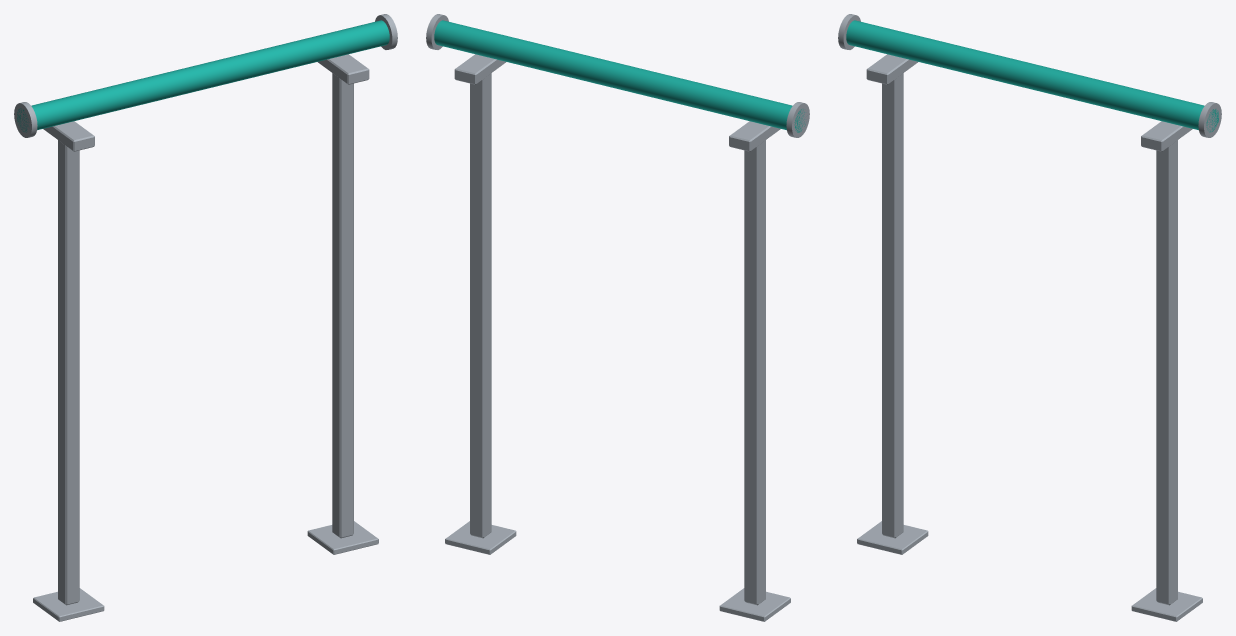
The model's file is pipe-run.glb.
3 views of the same model, side by side, from view 1: azimuth 30°, elevation 25°; view 2: azimuth 150°, elevation 25°; view 3: azimuth 330°, elevation 25° (orthographic).
Parts seen in each view (by area): view 1: pipe-run; view 2: pipe-run; view 3: pipe-run.
Part boxes in pixels (left/top/right/bottom): pipe-run: left=14, top=14, right=397, bottom=621; pipe-run: left=426, top=14, right=809, bottom=621; pipe-run: left=838, top=14, right=1221, bottom=621.
Bounding box in the file's own units: 2 × 2.68 × 0.3.
